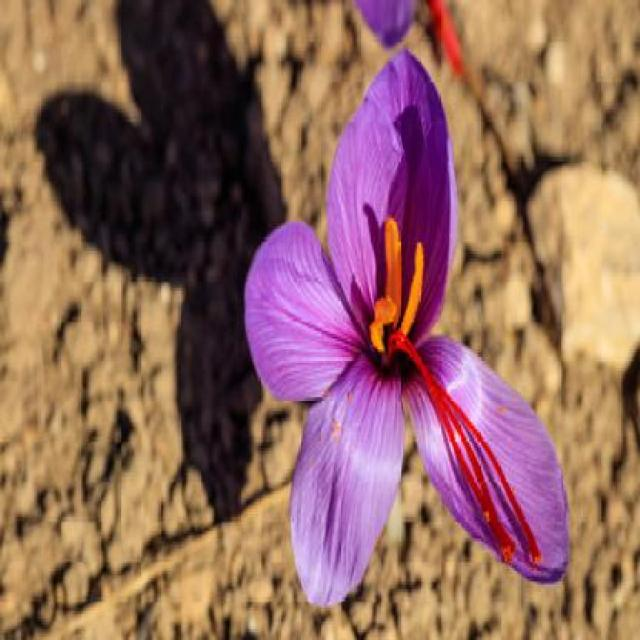Flower: (240, 45, 582, 613)
stigma: (390, 338, 542, 568), (398, 334, 524, 566), (426, 0, 466, 77)
